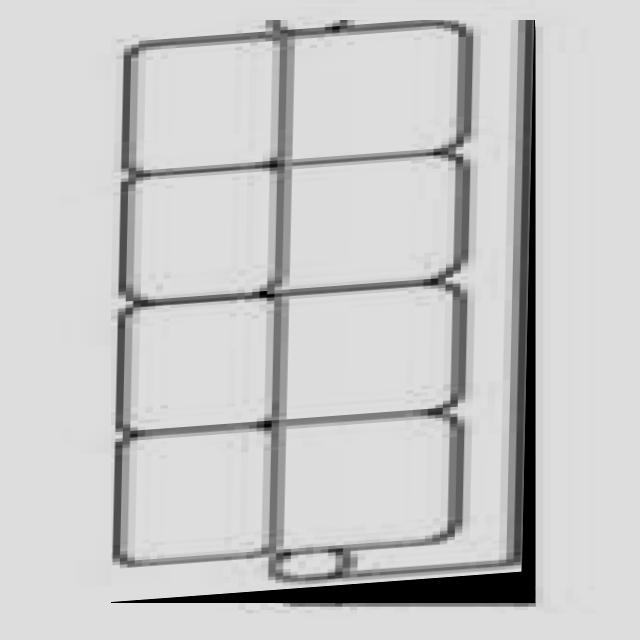sofa: (112, 20, 536, 603)
